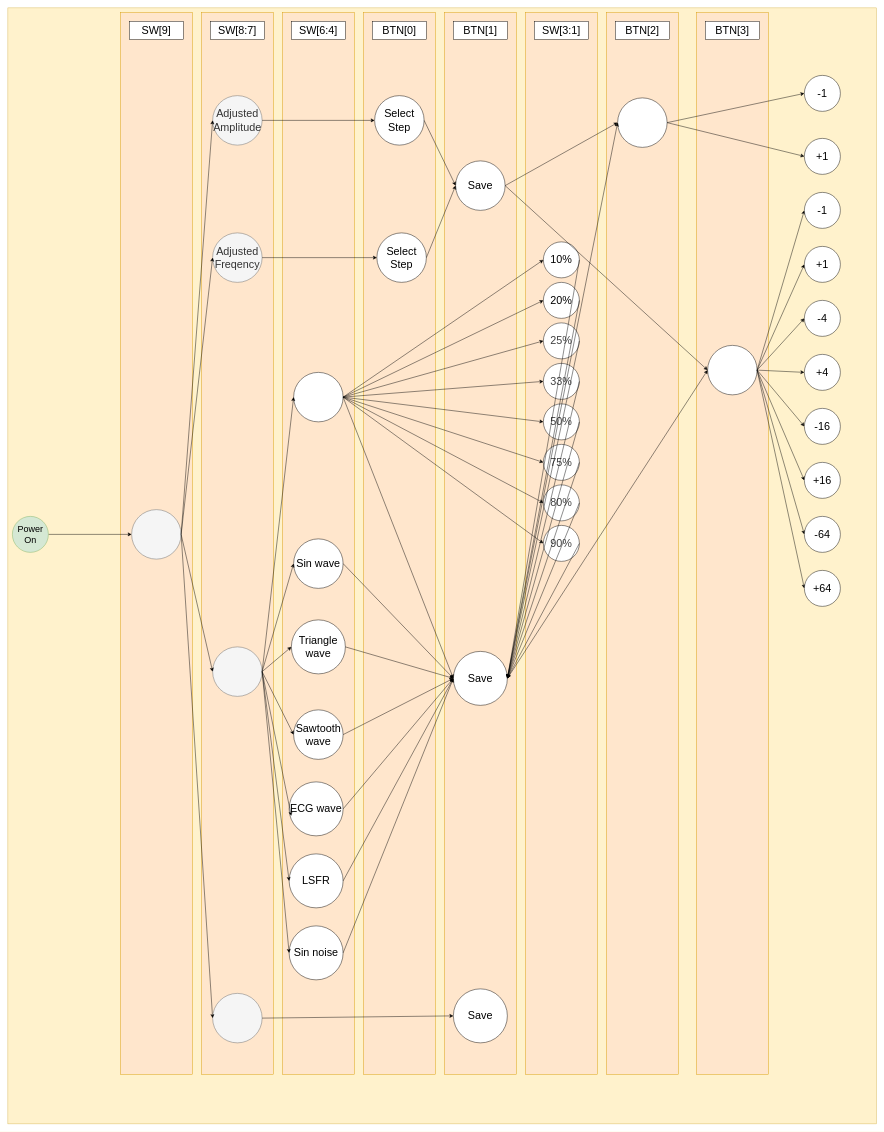
This 884x1132 diagram has some shape labels left out. The shapes that lost their labels are listed below. From the top down, each one's centre as x and y in pixels, then its label:
point 642,122: Adjust Amp
point 732,370: Adjust Freq
point 318,397: Square wave
point 156,534: RESET ACTIVE HIGH
point 237,671: Select Wave
point 237,1018: Wave with Noise
